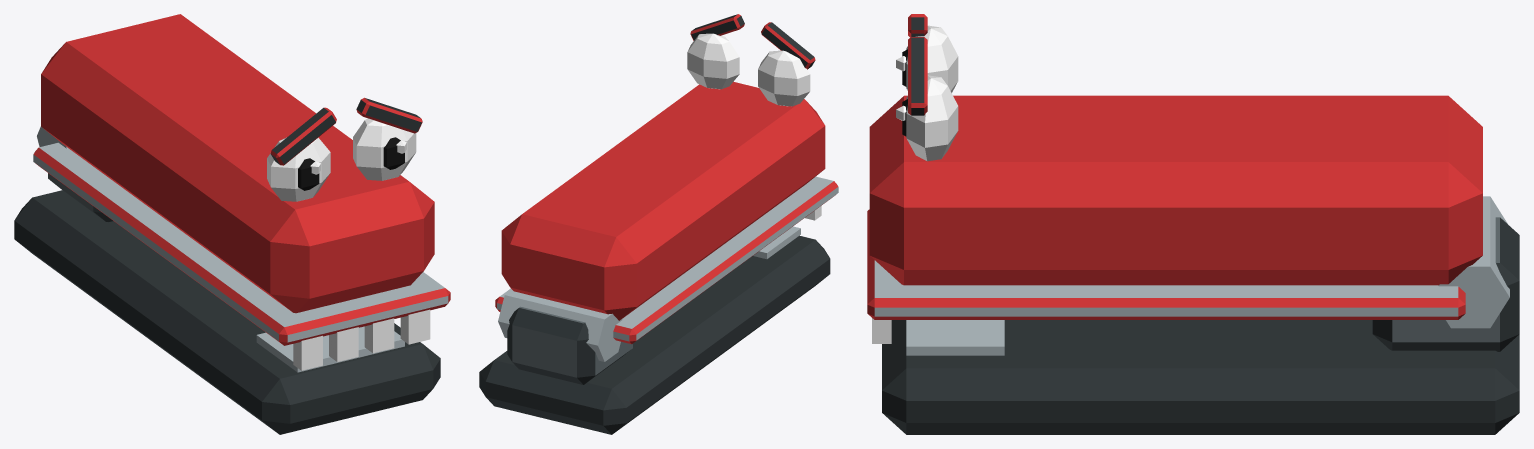
Rendered from tacker.glb.
3 views of the same model, side by side, from view 1: azimuth 30°, elevation 25°; view 2: azimuth 150°, elevation 25°; view 3: azimuth 270°, elevation 25° (orthographic). The views are drawn at different scales.
Parts seen in each view (by area): view 1: jaw-m, body-m; view 2: jaw-m, body-m; view 3: jaw-m, body-m.
Boxes of the visible parts, bbox=[...] form: jaw-m: bbox=[33, 14, 450, 370]; body-m: bbox=[14, 126, 440, 434]; jaw-m: bbox=[495, 14, 838, 344]; body-m: bbox=[479, 226, 830, 434]; jaw-m: bbox=[867, 14, 1482, 343]; body-m: bbox=[882, 196, 1519, 434].
Size of the model in its own units: 0.5 by 0.827 by 1.33.
